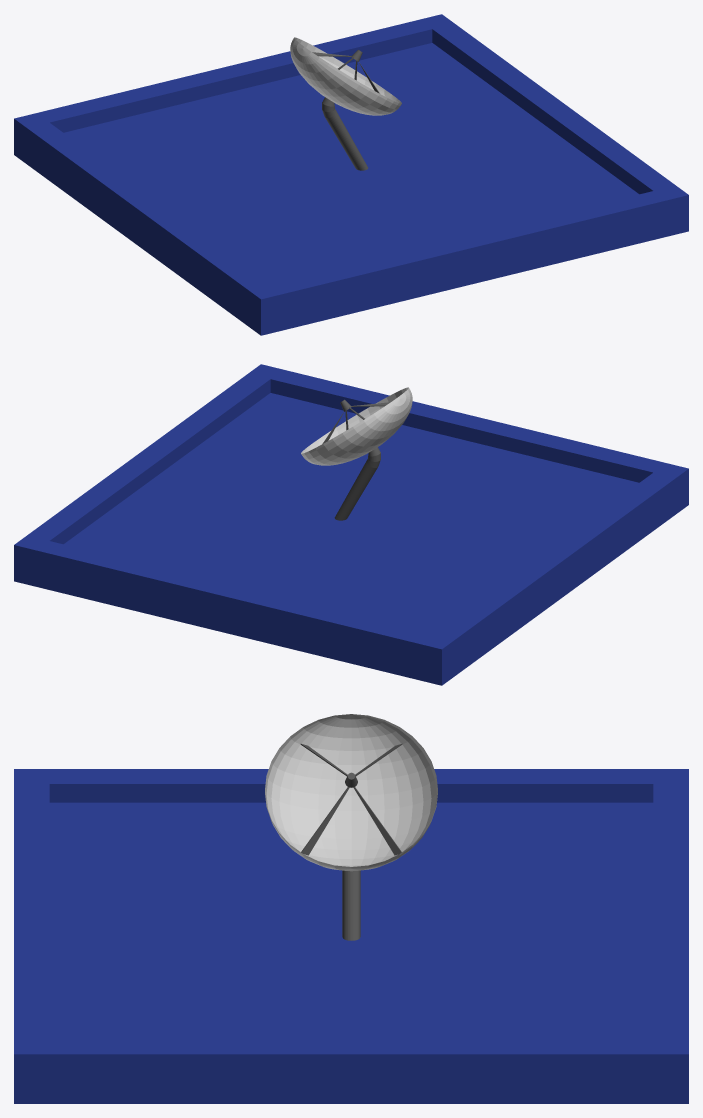
File: roof4.fbx
3 renders of one model, top to bottom at view 1: azimuth 30°, elevation 25°; view 2: azimuth 150°, elevation 25°; view 3: azimuth 270°, elevation 25°, orthographic. The views are drawn at different scales.
Visible parts, largest first — view 1: Cube, Sphere, Cylinder; view 2: Cube, Sphere, Cylinder; view 3: Cube, Sphere, Cylinder.
Part boxes in pixels (box(x1,y1,x2,y2)): Cube: box(14, 14, 688, 335); Sphere: box(290, 37, 401, 115); Cylinder: box(322, 97, 368, 170); Cube: box(14, 364, 688, 685); Sphere: box(301, 387, 412, 465); Cylinder: box(334, 447, 380, 520); Cube: box(14, 769, 688, 1103); Sphere: box(265, 714, 437, 871); Cylinder: box(342, 870, 360, 940).
Size of the model in its own units: 200 by 70.56 by 200.
